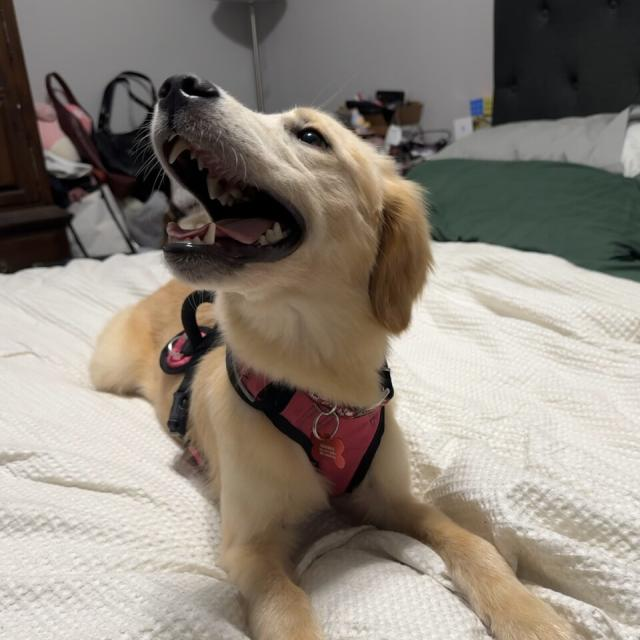golden_retriever_dog: (96, 60, 444, 353)
